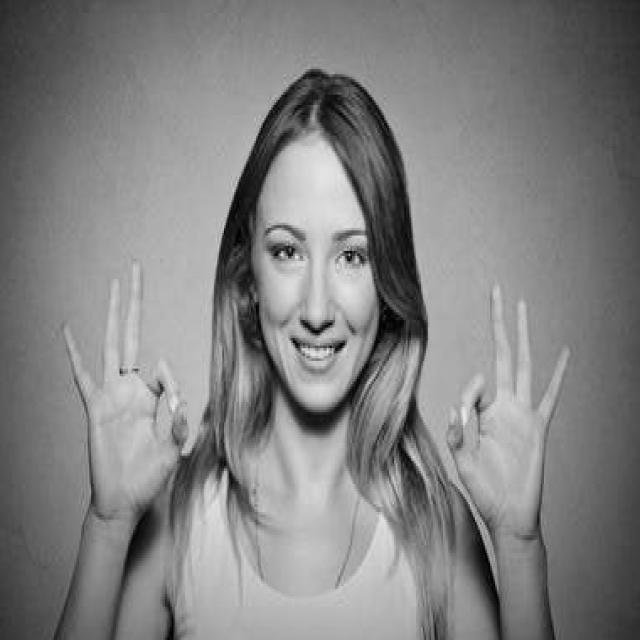perfect: (56, 255, 196, 528), (442, 277, 575, 564)
